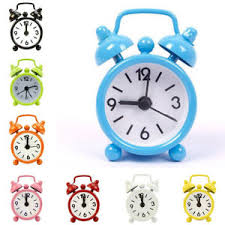alarm_clock: (3, 1, 214, 219)
